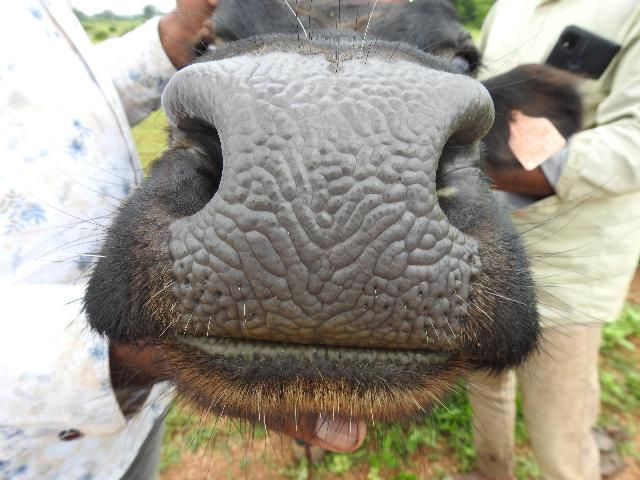Muzzle: (182, 71, 450, 352)
